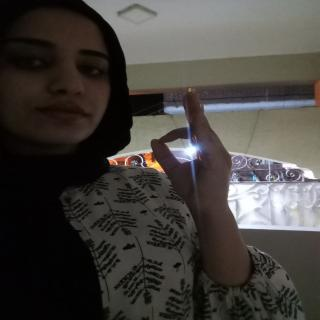Space: (142, 88, 245, 214)
